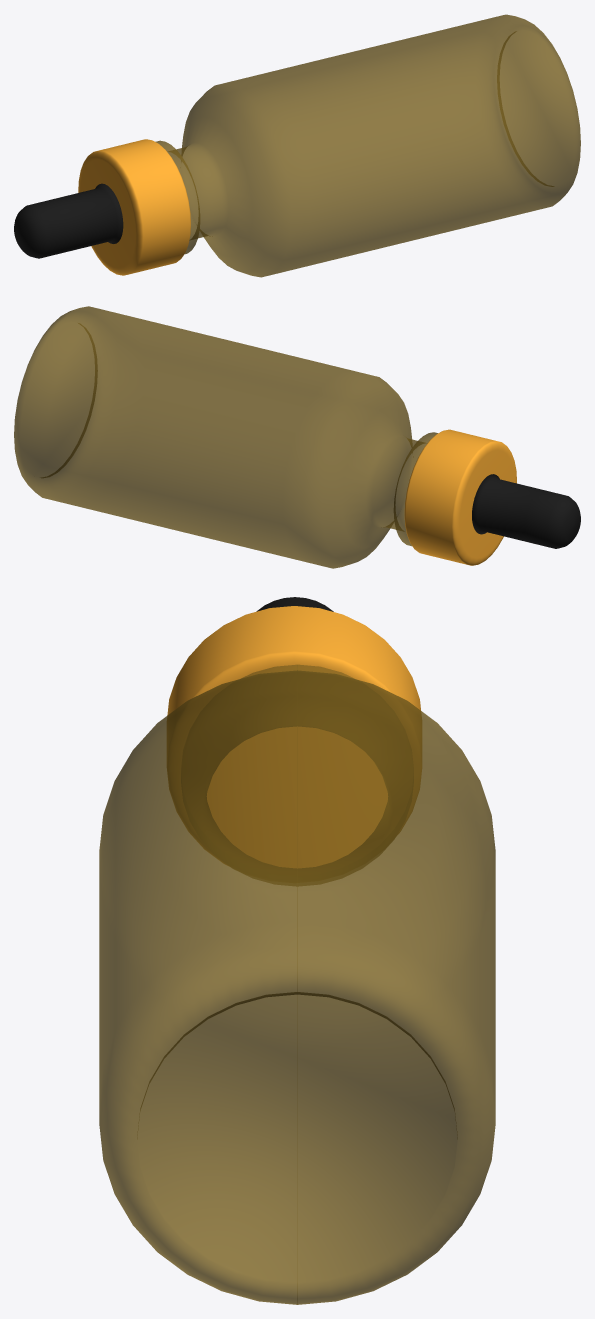
The model's file is SerumBottle8.gltf.
3 views of the same model, one above another, from view 1: azimuth 30°, elevation 25°; view 2: azimuth 150°, elevation 25°; view 3: azimuth 270°, elevation 25° (orthographic). The views are drawn at different scales.
Parts seen in each view (by area): view 1: Cylinder, Cylinder.001, Cylinder.002; view 2: Cylinder, Cylinder.001, Cylinder.002; view 3: Cylinder, Cylinder.001.
Boxes of the visible parts, x1,y1,x2,y2 form: Cylinder: [155, 14, 580, 277]; Cylinder.001: [78, 139, 190, 275]; Cylinder.002: [14, 183, 123, 258]; Cylinder: [14, 306, 437, 568]; Cylinder.001: [404, 429, 516, 565]; Cylinder.002: [472, 474, 580, 548]; Cylinder: [99, 664, 495, 1304]; Cylinder.001: [167, 606, 421, 868].
Bounding box in the file's own units: 4.21 × 1.39 × 1.39.
